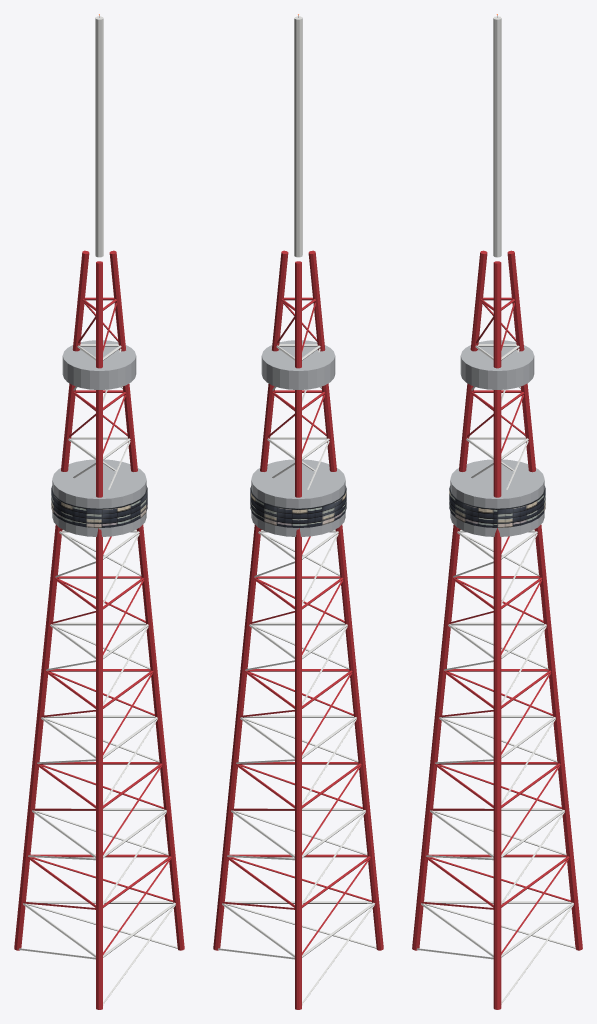
File: broadcast_tower.glb
The picture shows the model from 3 angles, left to right: view 1: azimuth 30°, elevation 25°; view 2: azimuth 150°, elevation 25°; view 3: azimuth 270°, elevation 25°; orthographic projection.
Parts seen in each view (by area): view 1: broadcast_tower; view 2: broadcast_tower; view 3: broadcast_tower.
Boxes of the visible parts, x1,y1,x2,y2 form: broadcast_tower: (14,14,184,1009); broadcast_tower: (213,14,383,1009); broadcast_tower: (412,14,582,1009).
Bounding box in the file's own units: 28.39 × 201 × 32.58.
Materials: 6 (1 with a texture image).
